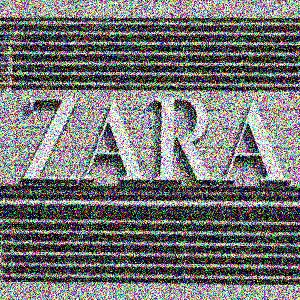zara: (280, 45, 300, 135)
